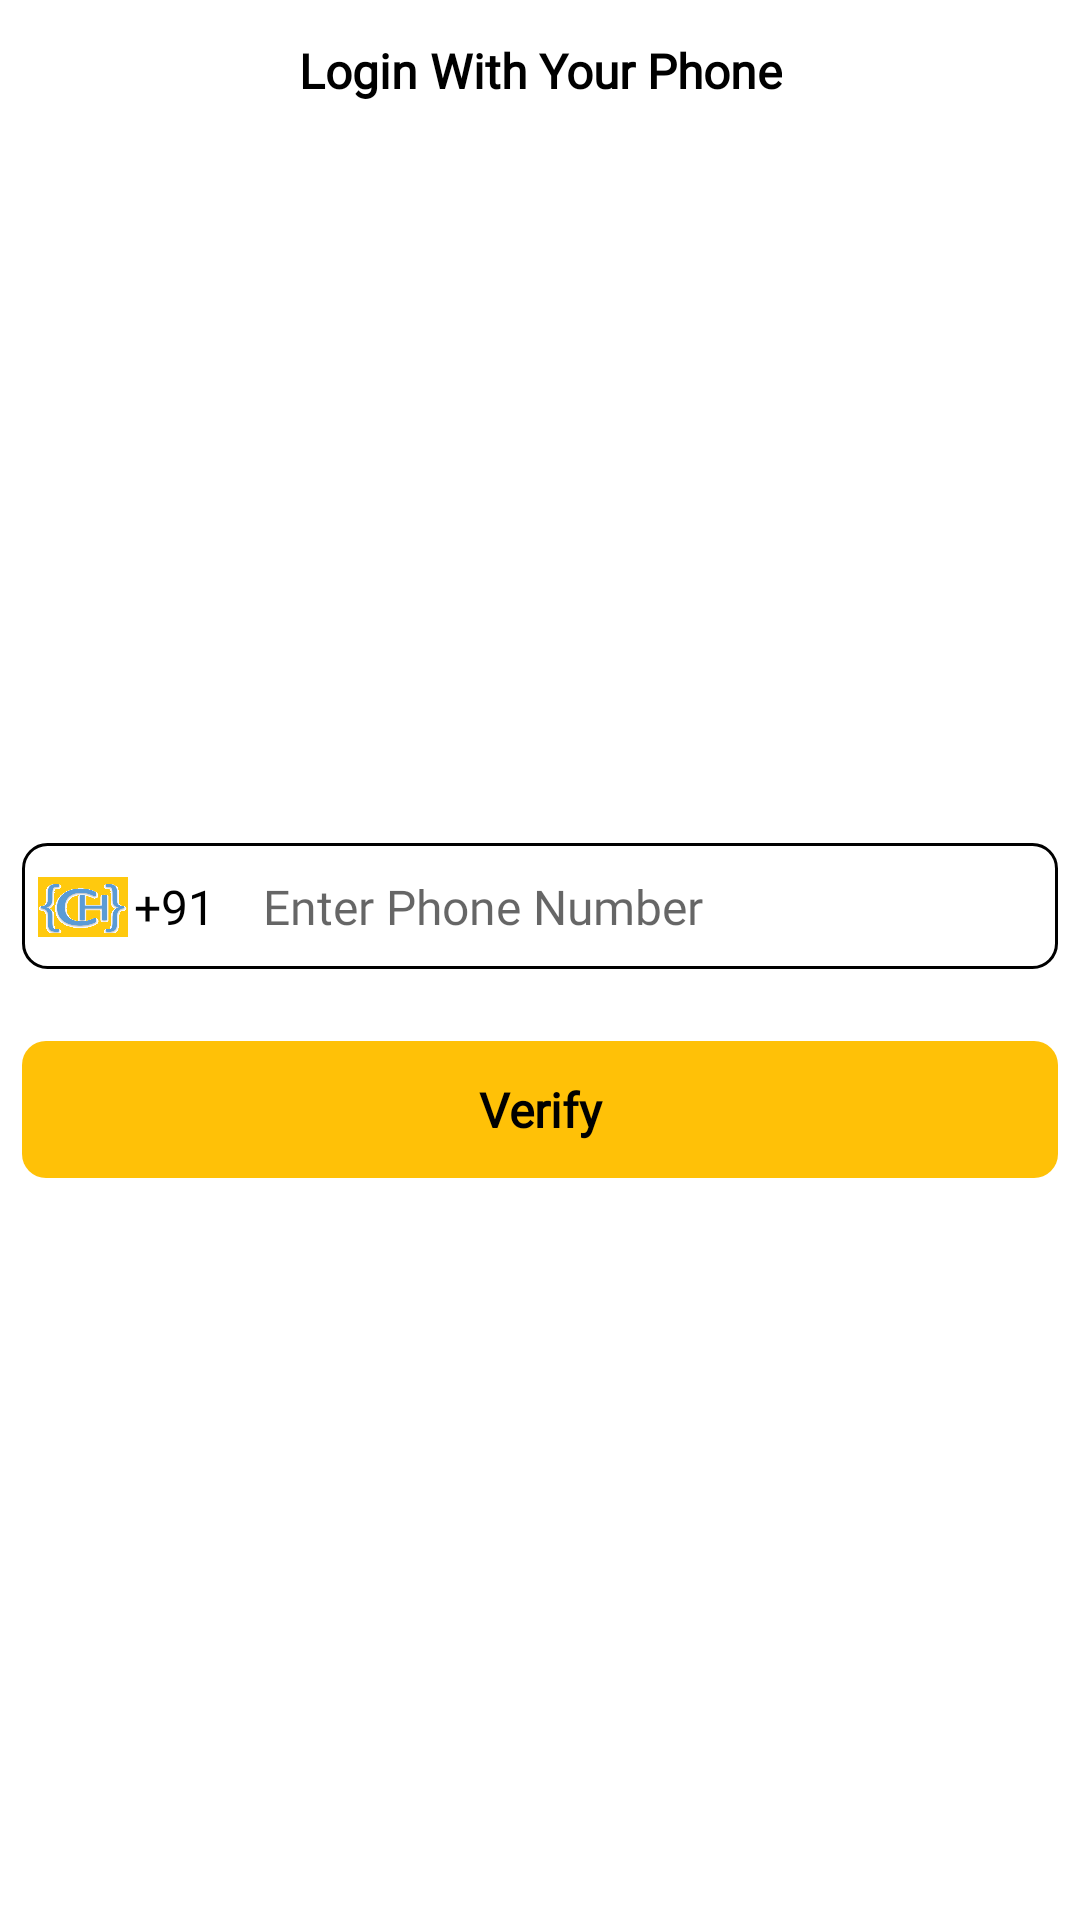

Screen size 1080px×1920px. Icon name, then its center in pixels as point (x, y):
app: point (83, 907)
